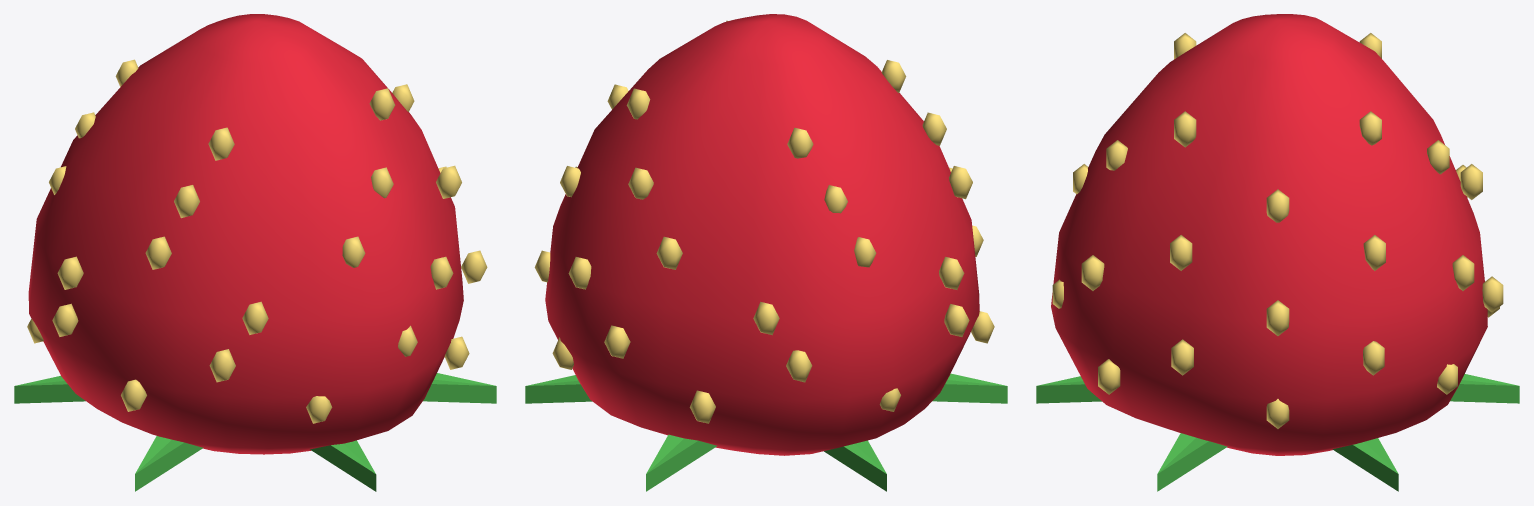
The model's file is CakeBerry.obj.
3 views of the same model, side by side, from view 1: azimuth 30°, elevation 25°; view 2: azimuth 150°, elevation 25°; view 3: azimuth 270°, elevation 25° (orthographic).
Parts seen in each view (by area): view 1: Berry, Seeds, BerryLeaves; view 2: Berry, Seeds, BerryLeaves; view 3: Berry, Seeds, BerryLeaves.
Part boxes in pixels (x1,y1,x2,y2): Berry: (28,14,463,454); Seeds: (27,59,487,423); BerryLeaves: (14,373,496,491); Berry: (545,14,979,455); Seeds: (534,20,994,423); BerryLeaves: (525,373,1007,491); Berry: (1051,14,1487,455); Seeds: (1052,33,1503,428); BerryLeaves: (1036,374,1519,491).
Size of the model in its own units: 1.18 by 1.1 by 1.24.
